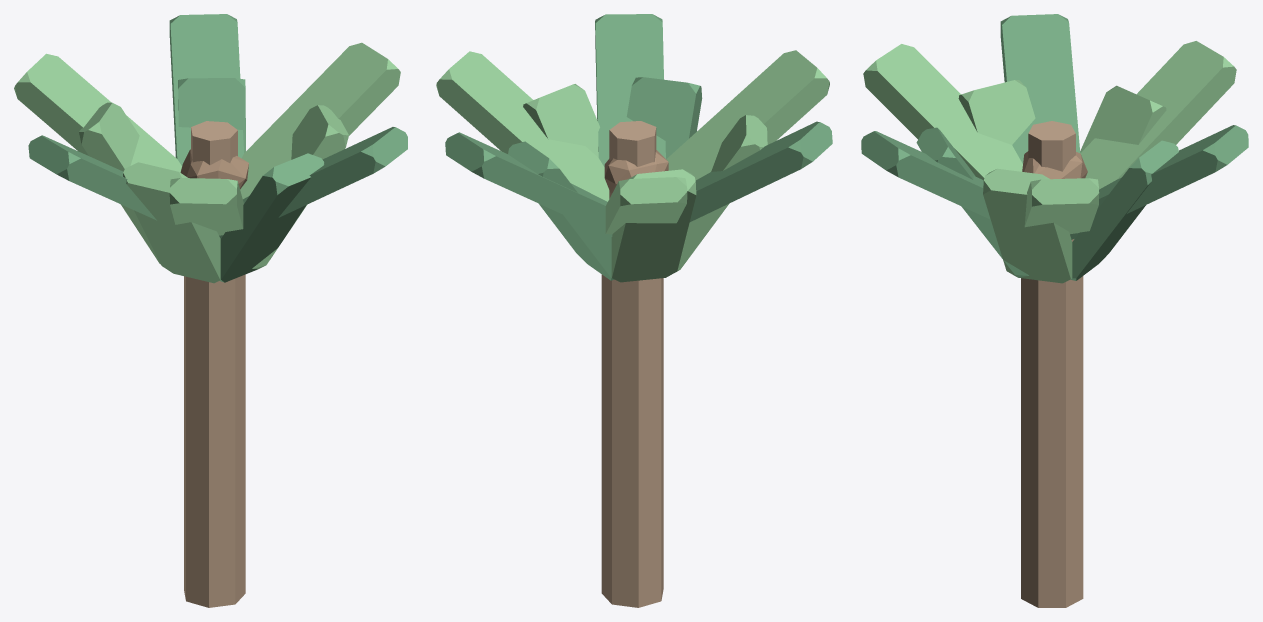
Rendered from palm_b.glb.
The picture shows the model from 3 angles, left to right: view 1: azimuth 30°, elevation 25°; view 2: azimuth 150°, elevation 25°; view 3: azimuth 270°, elevation 25°; orthographic projection.
Visible parts, largest first — view 1: trunk_m0, crown_m3, crown_m5, crown_m7, crown_m6, crown_m4, crown_m2, crown_m1, crown_m0, crown_m9, crown_m10, crown_m8 (+2 smaller); view 2: trunk_m0, crown_m3, crown_m1, crown_m2, crown_m0, crown_m4, crown_m10, crown_m7, crown_m5, crown_m9, crown_m8, crown_m6 (+2 smaller); view 3: trunk_m0, crown_m1, crown_m5, crown_m0, crown_m8, crown_m9, crown_m2, crown_m4, crown_m3, crown_m6, crown_m10, crown_m7 (+2 smaller).
Part boxes in pixels (x1,y1,x2,y2): trunk_m0: (184, 274, 245, 607); crown_m3: (240, 42, 400, 198); crown_m5: (14, 53, 181, 172); crown_m7: (220, 153, 324, 282); crown_m6: (123, 162, 220, 283); crown_m4: (169, 14, 243, 166); crown_m2: (219, 127, 407, 238); crown_m1: (169, 178, 243, 235); crown_m0: (28, 135, 156, 220); crown_m9: (178, 78, 245, 152); crown_m10: (79, 102, 160, 264); crown_m8: (252, 105, 348, 269); trunk_m0: (601, 274, 663, 607); crown_m3: (436, 51, 609, 201); crown_m1: (666, 50, 829, 180); crown_m2: (595, 14, 665, 166); crown_m0: (690, 121, 832, 221); crown_m4: (445, 132, 612, 236); crown_m10: (611, 169, 696, 282); crown_m7: (626, 77, 702, 158); crown_m5: (605, 177, 687, 236); crown_m9: (508, 141, 614, 280); crown_m8: (523, 84, 599, 157); crown_m6: (677, 115, 767, 271); trunk_m0: (1021, 239, 1083, 607); crown_m1: (863, 44, 1022, 180); crown_m5: (1080, 41, 1236, 189); crown_m0: (1000, 14, 1080, 163); crown_m8: (983, 168, 1072, 283); crown_m9: (1071, 140, 1178, 280); crown_m2: (861, 131, 990, 219); crown_m4: (1070, 125, 1248, 239); crown_m3: (1024, 178, 1099, 239); crown_m6: (958, 80, 1035, 144); crown_m10: (1080, 85, 1166, 152); crown_m7: (916, 127, 1028, 277).
Size of the model in its own units: 2.23 by 2.92 by 2.06.
